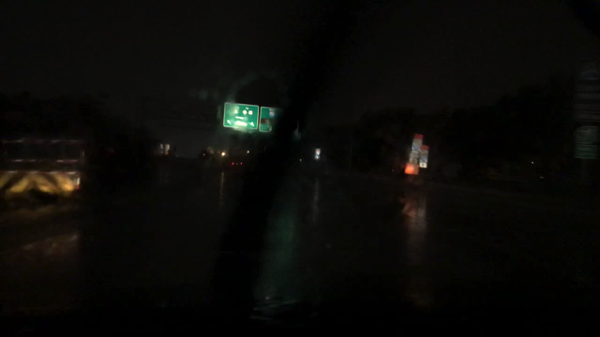car: (226, 159, 244, 168)
traffic sign: (223, 102, 258, 131), (259, 107, 280, 132), (574, 144, 599, 159), (576, 126, 598, 143)
